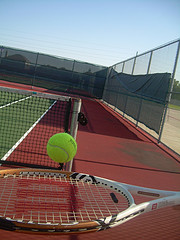tennis ball: (45, 132, 78, 164)
